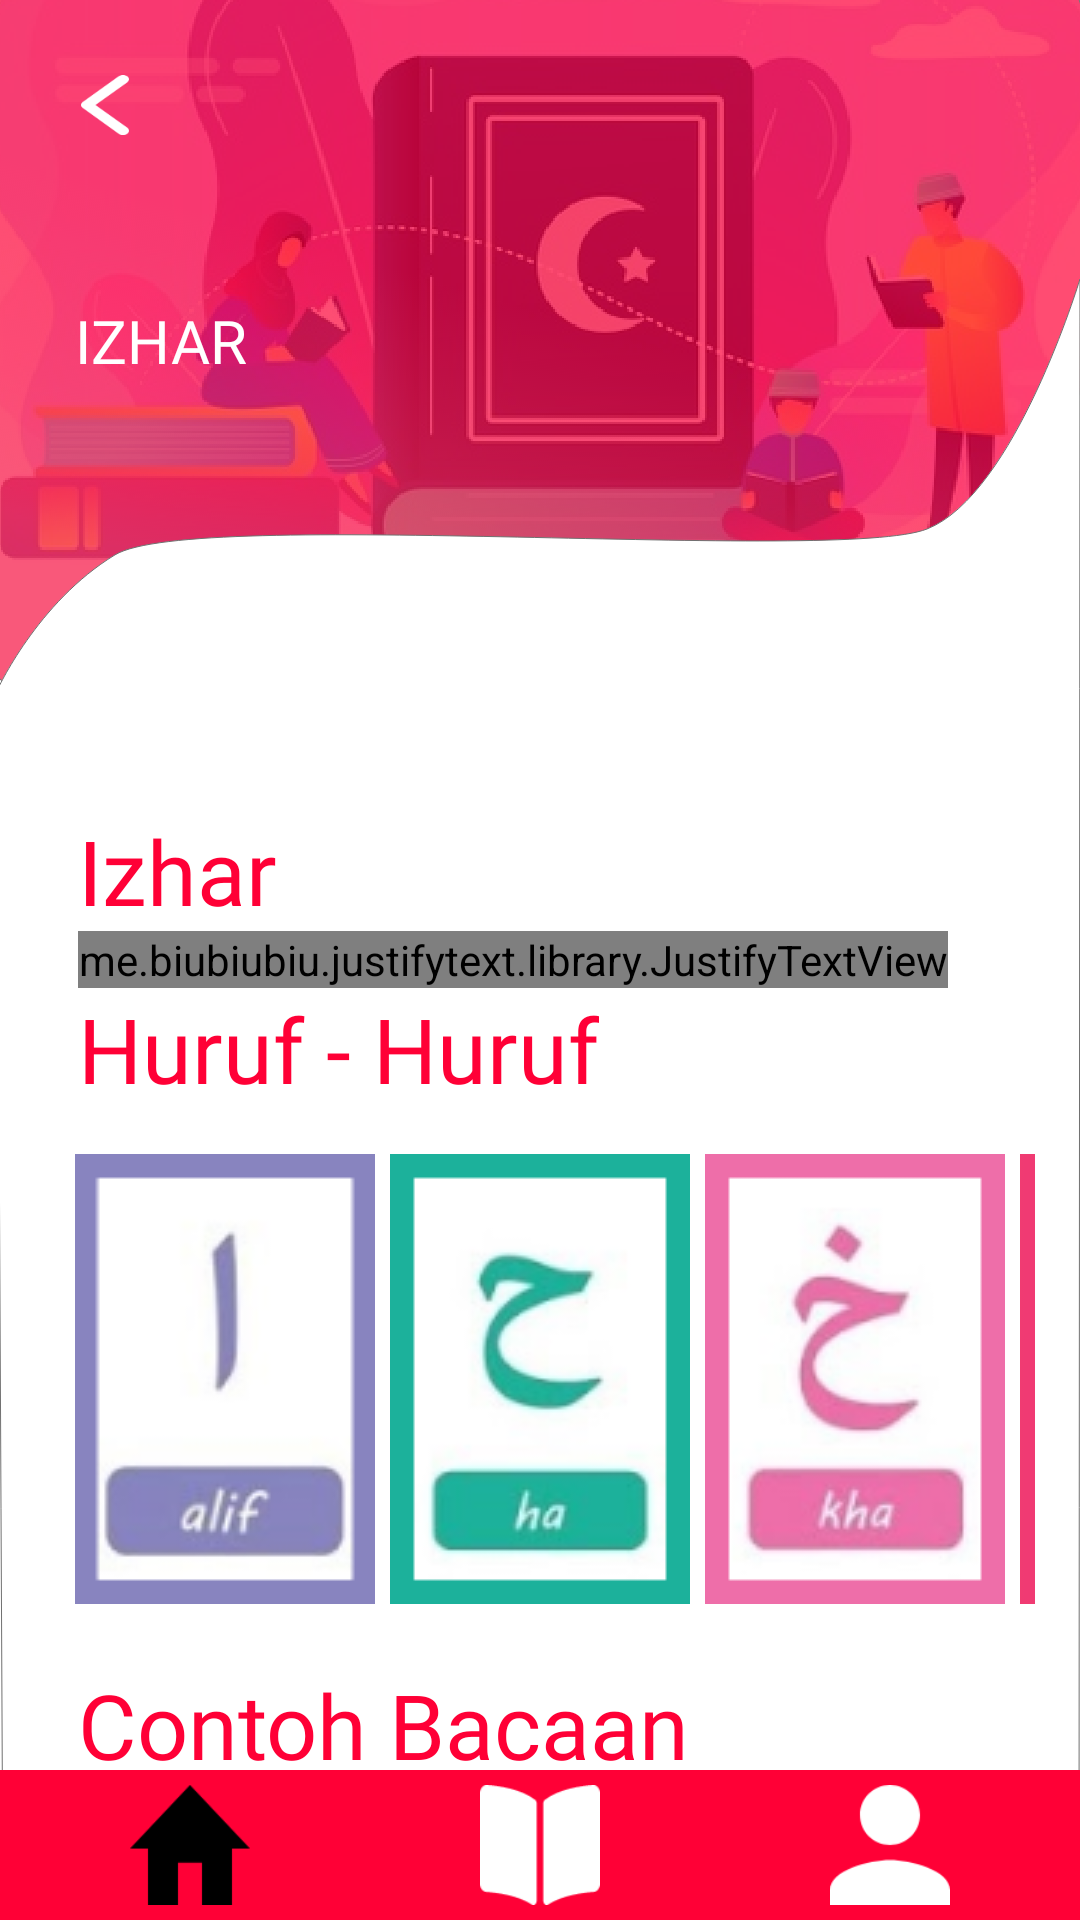

Screen size 1080px x 1920px. Icon name, then its center in pixels as point (x, y):
akun: point (890, 1845)
back: point (105, 105)
home: point (190, 1845)
